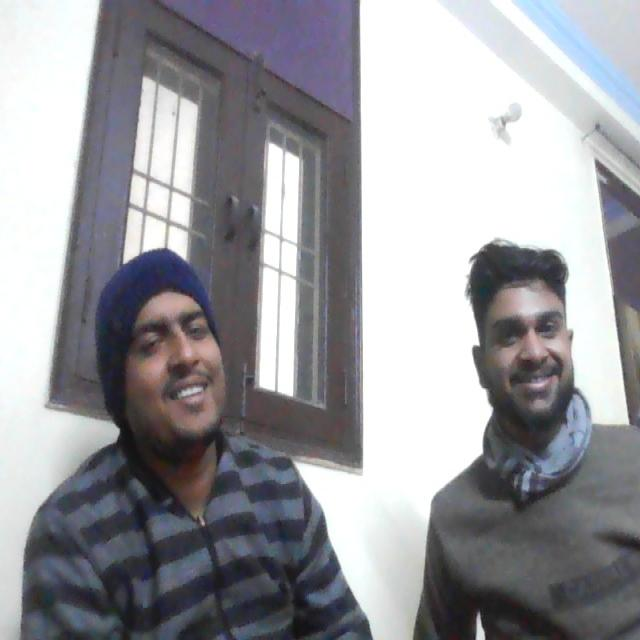real: (115, 241, 229, 456), (471, 225, 583, 438)
